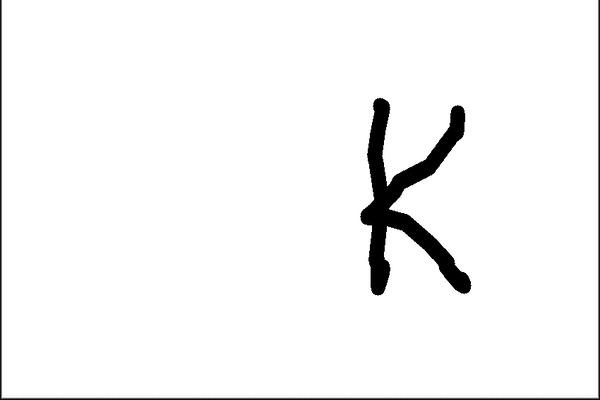K: (351, 89, 480, 309)
